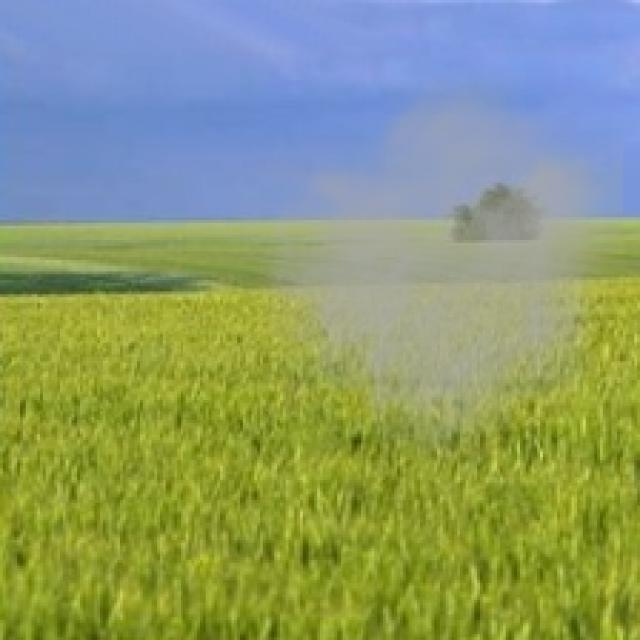smoke: (220, 57, 623, 474)
